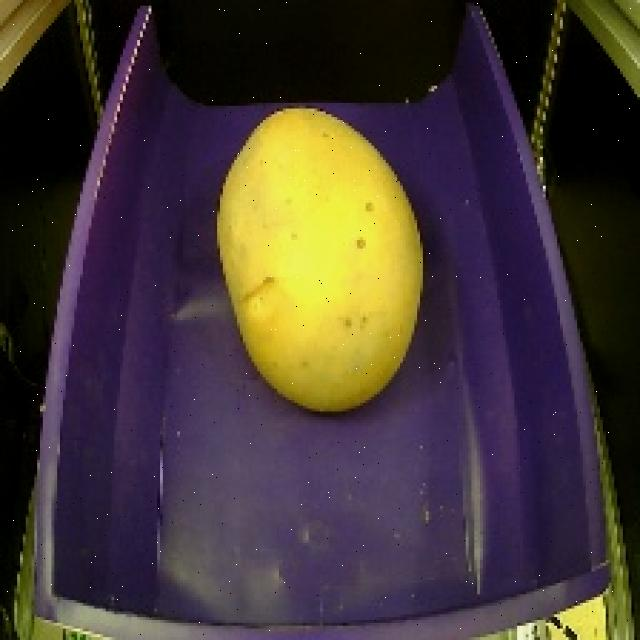full_potato: (207, 85, 441, 422)
